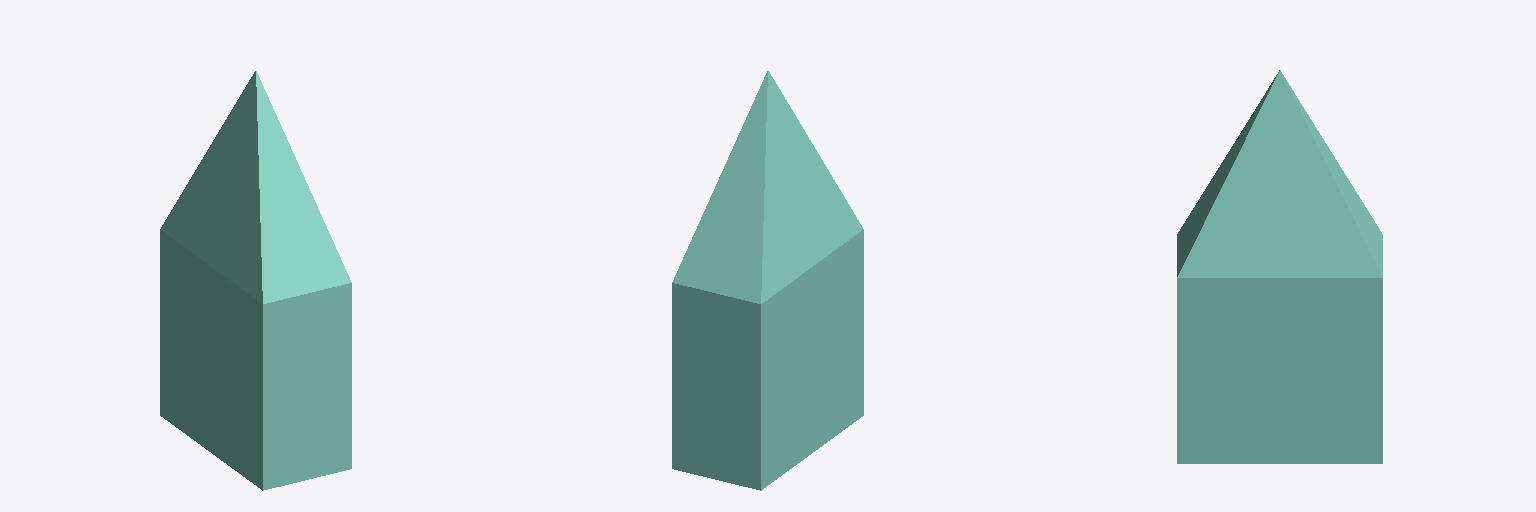
Rendered from TestingObject.obj.
3 views of the same model, side by side, from view 1: azimuth 30°, elevation 25°; view 2: azimuth 150°, elevation 25°; view 3: azimuth 270°, elevation 25° (orthographic).
Visible parts, largest first — view 1: Box001; view 2: Box001; view 3: Box001.
Part boxes in pixels (bbox=[...]): Box001: bbox=[160, 71, 351, 490]; Box001: bbox=[672, 71, 863, 490]; Box001: bbox=[1177, 70, 1382, 463].
Size of the model in its own units: 5 by 20 by 10.